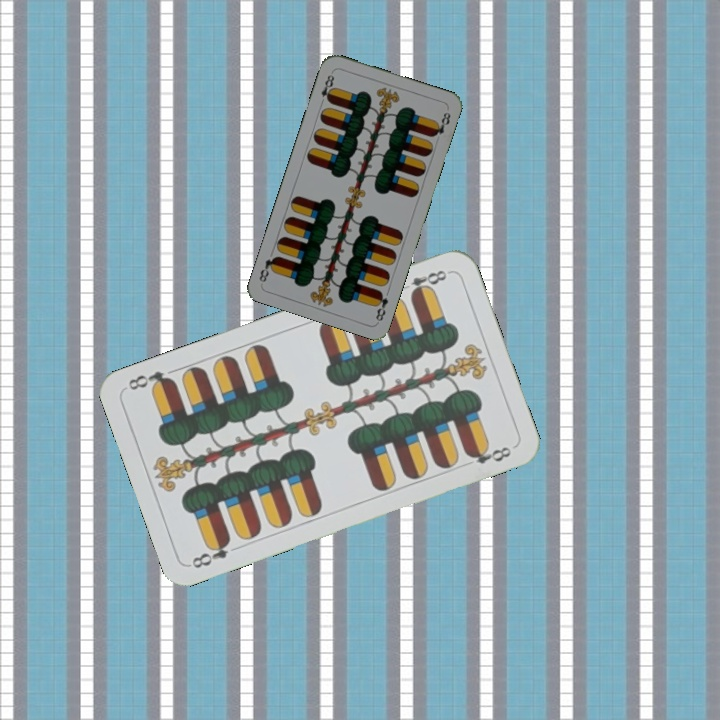E8: (395, 266, 452, 299), (187, 534, 233, 571), (316, 68, 337, 107), (371, 287, 391, 324)
